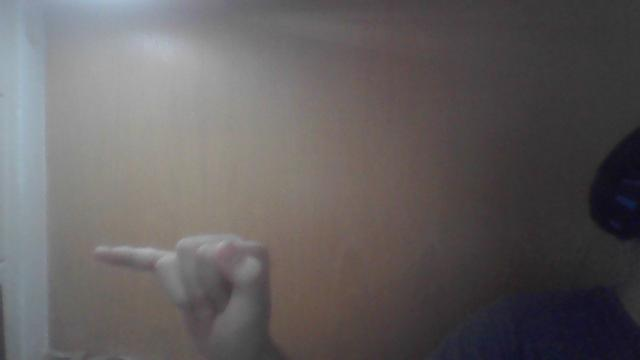Right: (94, 236, 270, 348)
